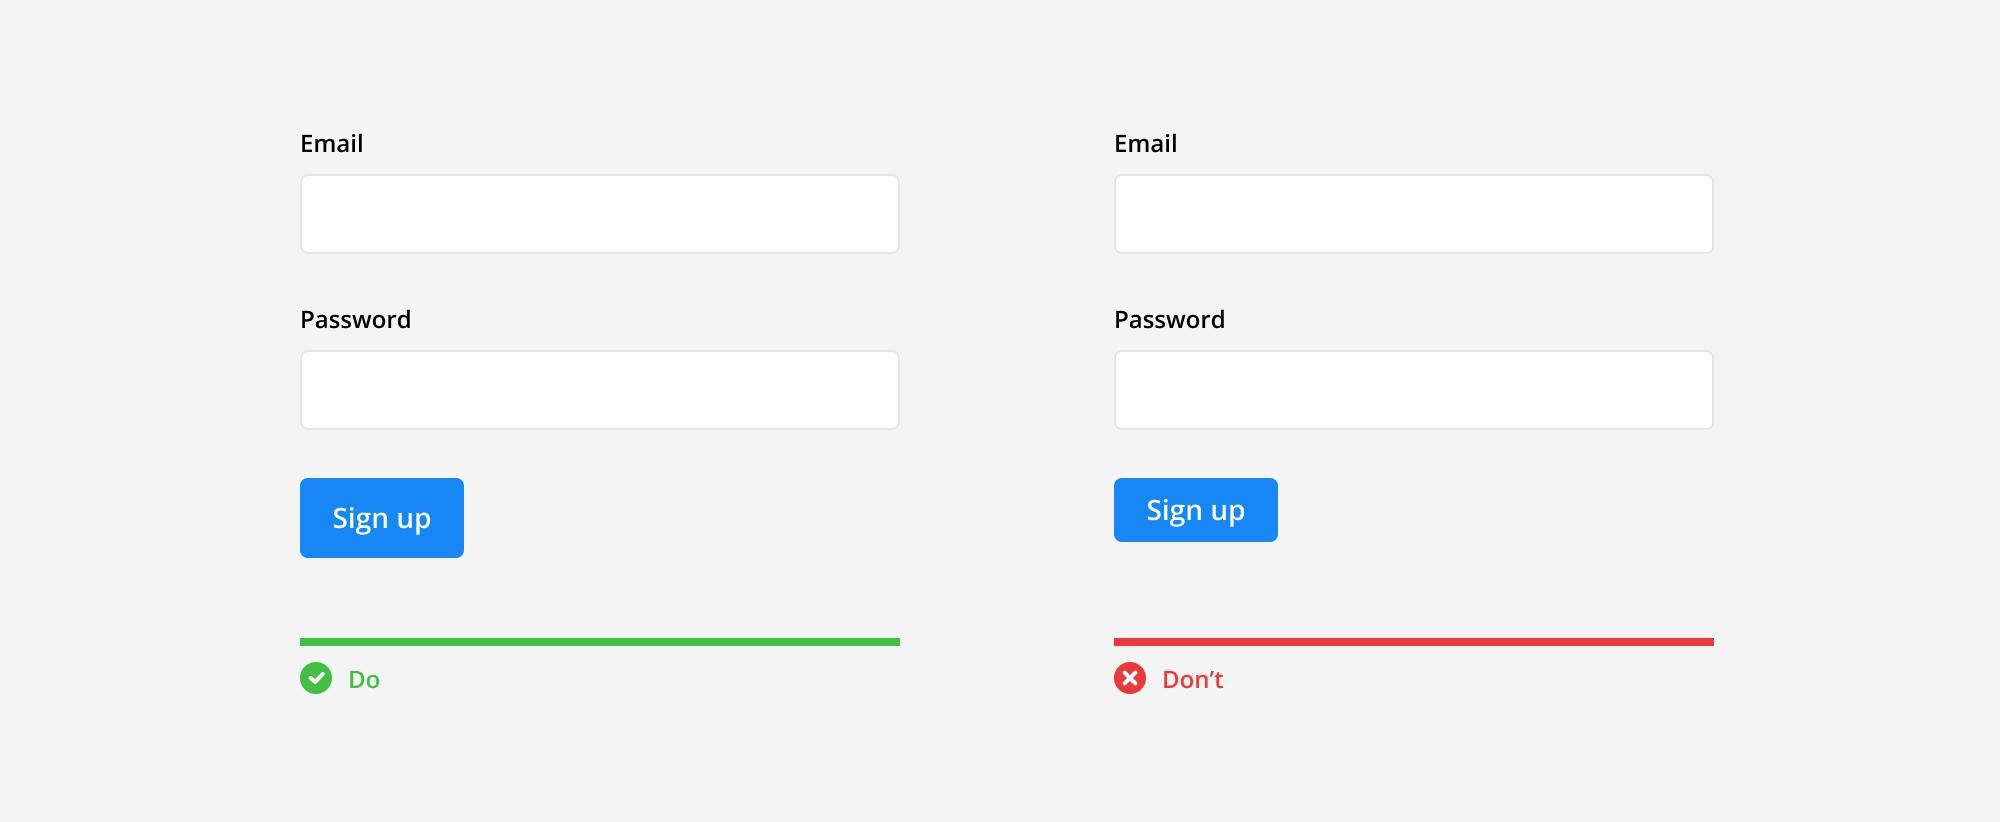button: (300, 477, 467, 562), (1114, 475, 1279, 542)
input: (297, 350, 904, 435), (1114, 350, 1717, 433), (1112, 177, 1718, 258), (304, 177, 897, 255)
label: (297, 301, 430, 345), (1114, 303, 1231, 340), (298, 129, 378, 160), (1114, 128, 1184, 160)
